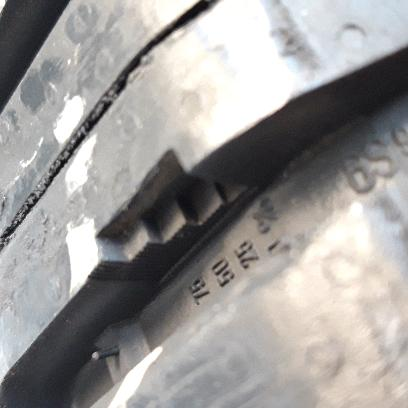temoin:100: (86, 146, 263, 286)
